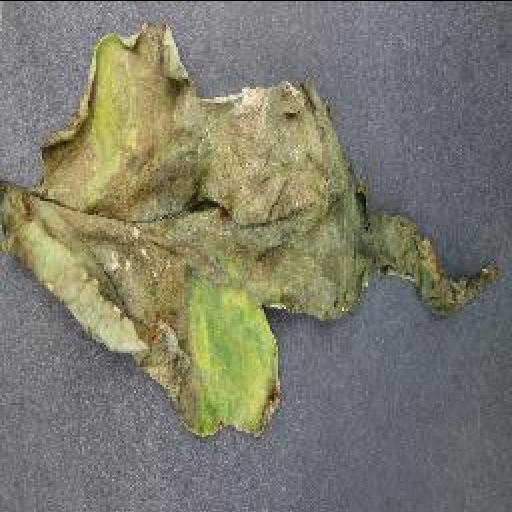disease_tomato: (0, 20, 500, 442)
